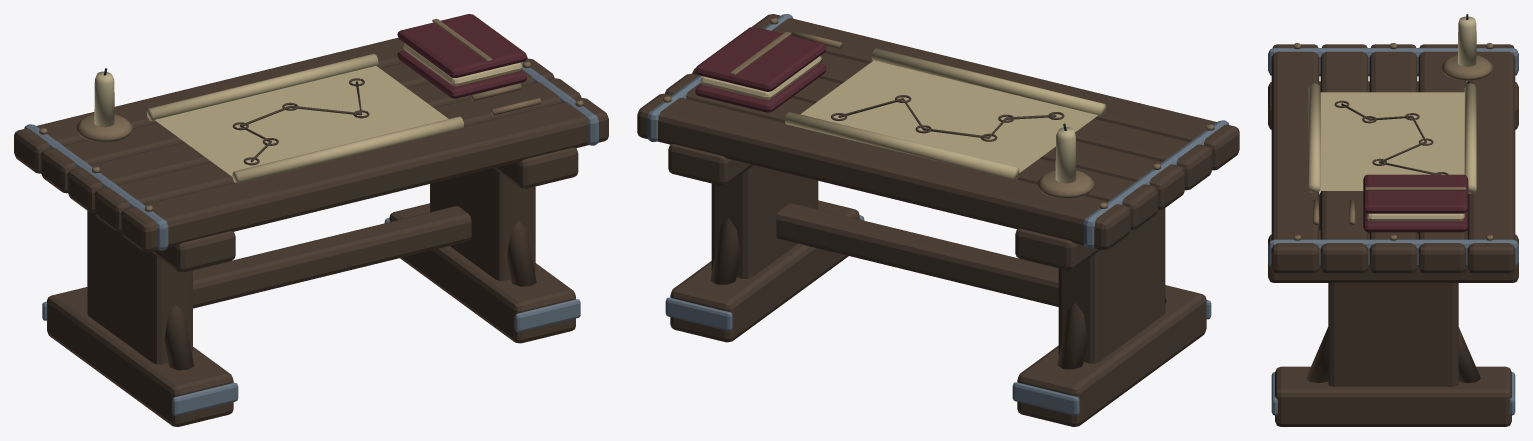
Rendered from expedition_table.glb.
3 renders of one model, left to right at view 1: azimuth 30°, elevation 25°; view 2: azimuth 150°, elevation 25°; view 3: azimuth 270°, elevation 25°, orthographic. The views are drawn at different scales.
Visible parts, largest first — view 1: Body__oak, Body__parchment, Body__wine, Body__iron, Body__bronze, Body__wax, Body__ink; view 2: Body__oak, Body__parchment, Body__wine, Body__iron, Body__bronze, Body__ink, Body__wax; view 3: Body__oak, Body__parchment, Body__wine, Body__iron, Body__bronze, Body__wax, Body__ink.
Boxes of the visible parts, x1,y1,x2,y2 form: Body__oak: [14, 37, 608, 426]; Body__parchment: [146, 43, 521, 183]; Body__wine: [397, 14, 527, 98]; Body__iron: [24, 62, 598, 415]; Body__bronze: [39, 18, 583, 211]; Body__wax: [94, 71, 114, 127]; Body__ink: [232, 78, 369, 165]; Body__oak: [637, 14, 1239, 426]; Body__parchment: [700, 48, 1106, 179]; Body__wine: [695, 27, 826, 112]; Body__iron: [647, 14, 1229, 415]; Body__bronze: [662, 17, 1214, 208]; Body__ink: [831, 95, 1064, 141]; Body__wax: [1055, 127, 1076, 183]; Body__oak: [1268, 44, 1518, 426]; Body__parchment: [1308, 83, 1476, 221]; Body__wine: [1363, 174, 1468, 232]; Body__iron: [1268, 48, 1518, 415]; Body__bronze: [1293, 43, 1493, 240]; Body__wax: [1458, 16, 1476, 66]; Body__ink: [1334, 100, 1448, 174].
Bounding box in the file's own units: 2.86 × 1.62 × 1.46.
